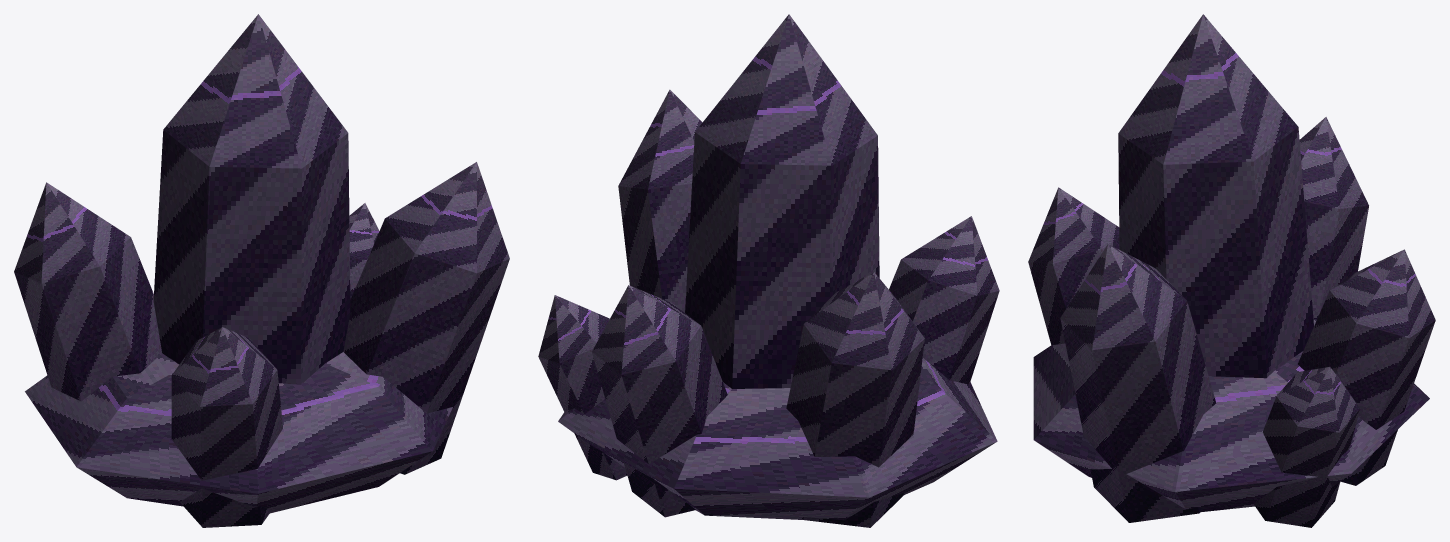
The model's file is obsidiana.glb.
The picture shows the model from 3 angles, left to right: view 1: azimuth 30°, elevation 25°; view 2: azimuth 150°, elevation 25°; view 3: azimuth 270°, elevation 25°; orthographic projection. The views are drawn at different scales.
Parts seen in each view (by area): view 1: obsidiana; view 2: obsidiana; view 3: obsidiana.
Boxes of the visible parts, bbox=[...] form: obsidiana: bbox=[14, 14, 509, 527]; obsidiana: bbox=[538, 14, 999, 527]; obsidiana: bbox=[1028, 14, 1435, 527].
Bounding box in the file's own units: 0.8816 × 0.9964 × 0.8114.
Materials: 1 (1 with a texture image).
